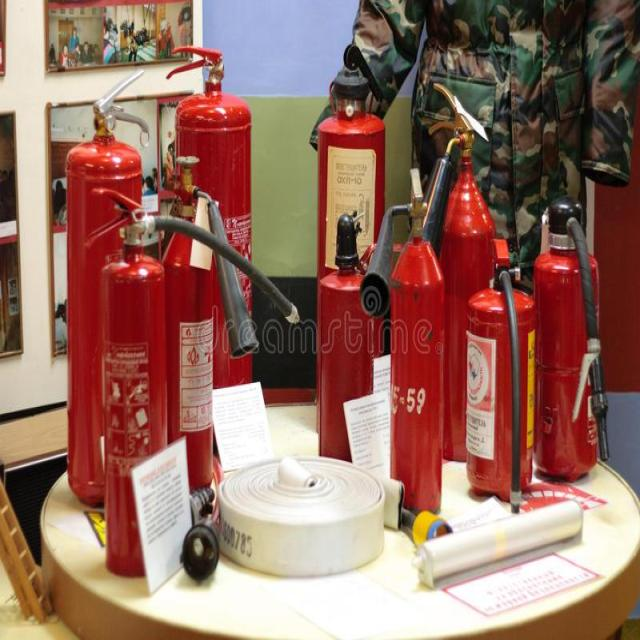fire_extinguisher: (76, 182, 307, 586), (160, 32, 264, 459), (64, 61, 158, 514), (153, 153, 264, 497), (358, 163, 452, 531), (417, 80, 505, 472), (311, 39, 390, 452), (528, 183, 613, 487), (460, 226, 548, 514), (312, 205, 387, 506)
